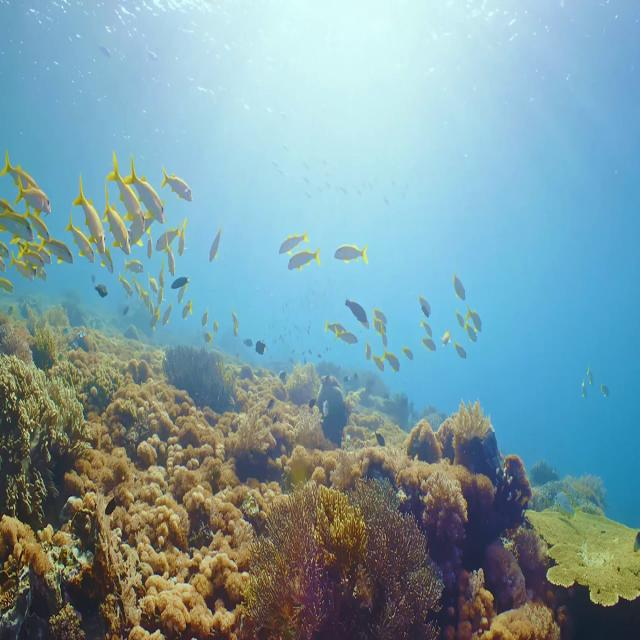fish: (107, 154, 146, 235), (75, 176, 107, 265), (121, 164, 166, 226), (103, 195, 128, 259), (158, 165, 194, 205), (286, 244, 322, 274), (331, 243, 371, 264)
